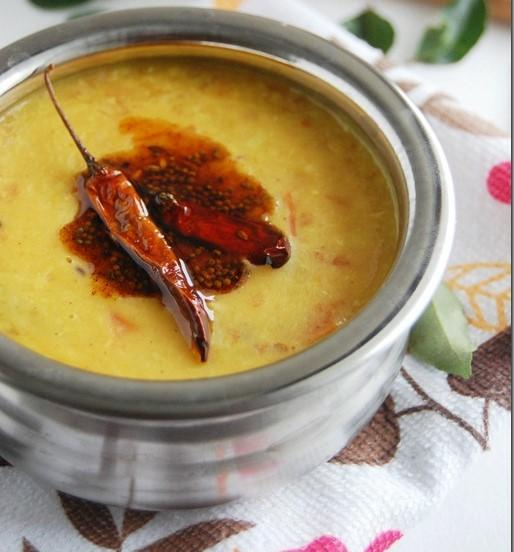Dal: (0, 57, 402, 381)
